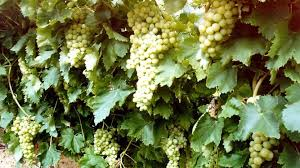Green grapes: (126, 3, 177, 112), (197, 2, 242, 61), (62, 11, 97, 74)
